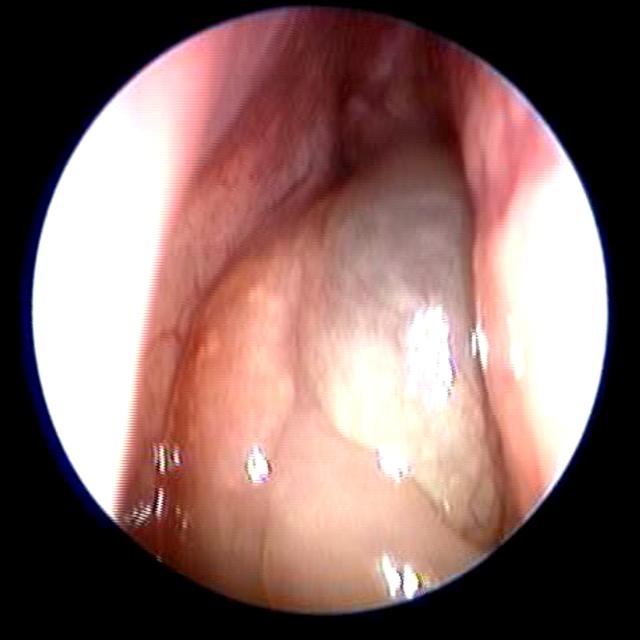POLYPS: (303, 144, 509, 541), (260, 401, 501, 618), (337, 12, 451, 143)
